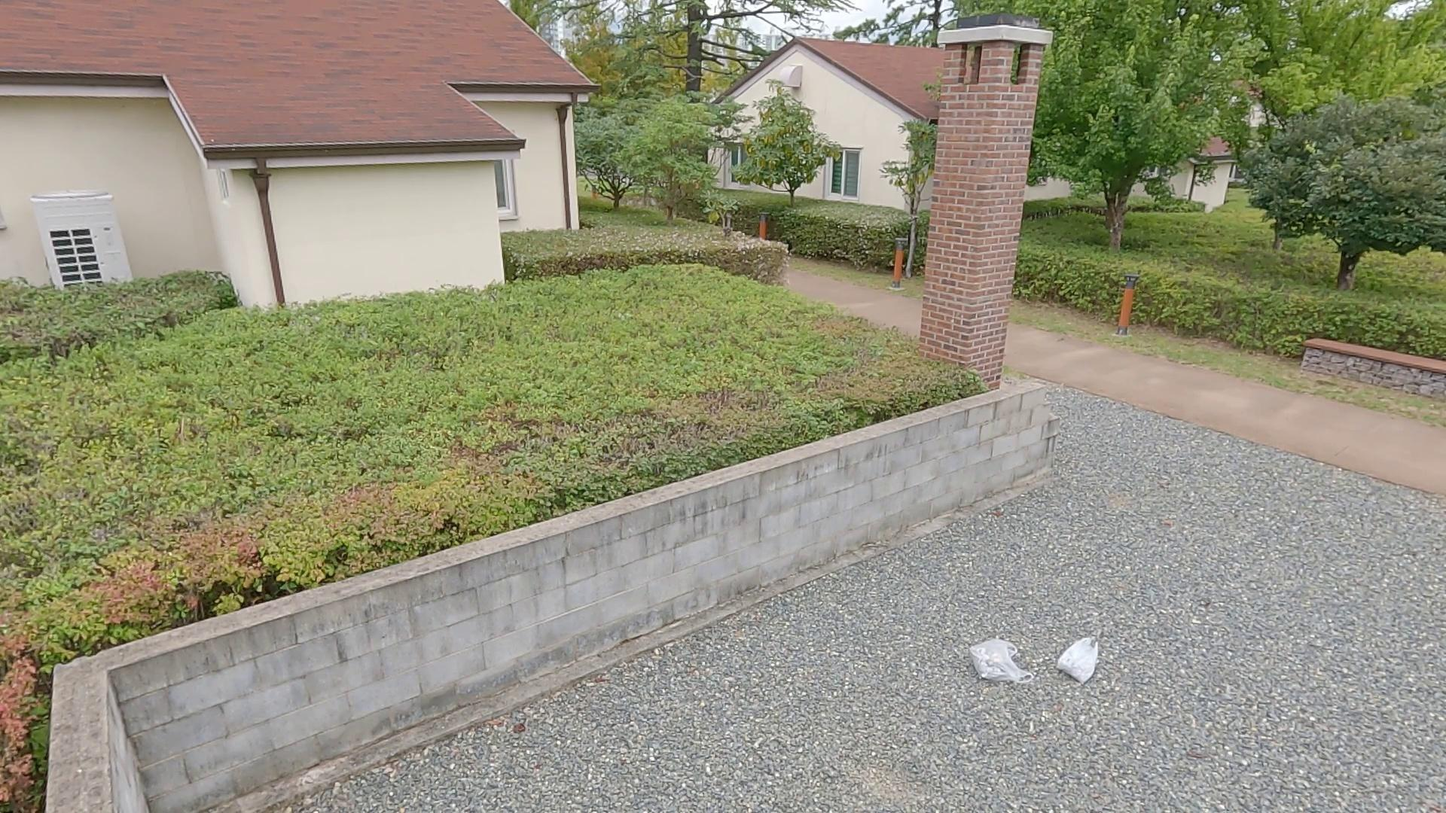trash: (970, 627, 1041, 688), (1057, 628, 1104, 686)
